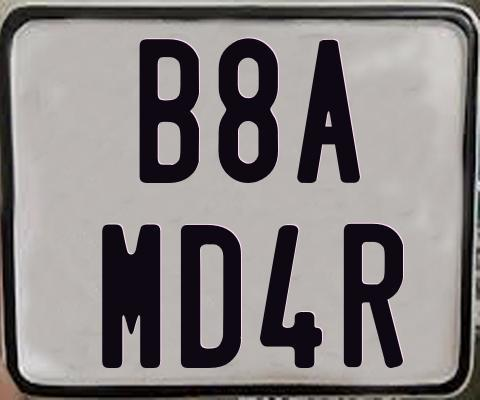4: (258, 225, 323, 373)
8: (218, 36, 283, 183)
A: (296, 38, 360, 182)
B: (137, 36, 202, 184)
D: (181, 222, 241, 368)
M: (101, 222, 159, 372)
R: (341, 222, 405, 369)
